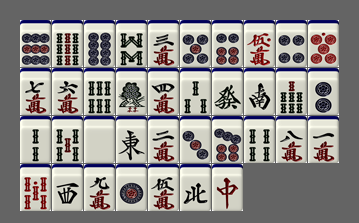0m: (244, 20, 275, 67)
0p: (308, 20, 339, 67)
0s: (20, 164, 51, 211)
1m: (308, 116, 339, 163)
1p: (116, 164, 147, 211)
1s: (116, 68, 147, 115)
1z: (116, 116, 147, 163)
2m: (148, 116, 179, 163)
2p: (308, 68, 339, 115)
2s: (20, 116, 51, 163)
2z: (244, 68, 275, 115)
3m: (148, 20, 179, 67)
3p: (180, 116, 211, 163)
3s: (180, 68, 211, 115)
3z: (52, 164, 83, 211)
4m: (148, 68, 179, 115)
4p: (276, 20, 307, 67)
4s: (244, 116, 275, 163)
4z: (180, 164, 211, 211)
5m: (148, 164, 179, 211)
5p: (180, 20, 211, 67)
5s: (52, 116, 83, 163)
5z: (84, 116, 115, 163)
6m: (52, 68, 83, 115)
6p: (212, 20, 243, 67)
6s: (84, 68, 115, 115)
6z: (212, 68, 243, 115)
7m: (20, 68, 51, 115)
7p: (212, 116, 243, 163)
7s: (276, 68, 307, 115)
7z: (212, 164, 243, 211)
8m: (276, 116, 307, 163)
8p: (84, 20, 115, 67)
8s: (116, 20, 147, 67)
9m: (84, 164, 115, 211)
9p: (20, 20, 51, 67)
9s: (52, 20, 83, 67)
